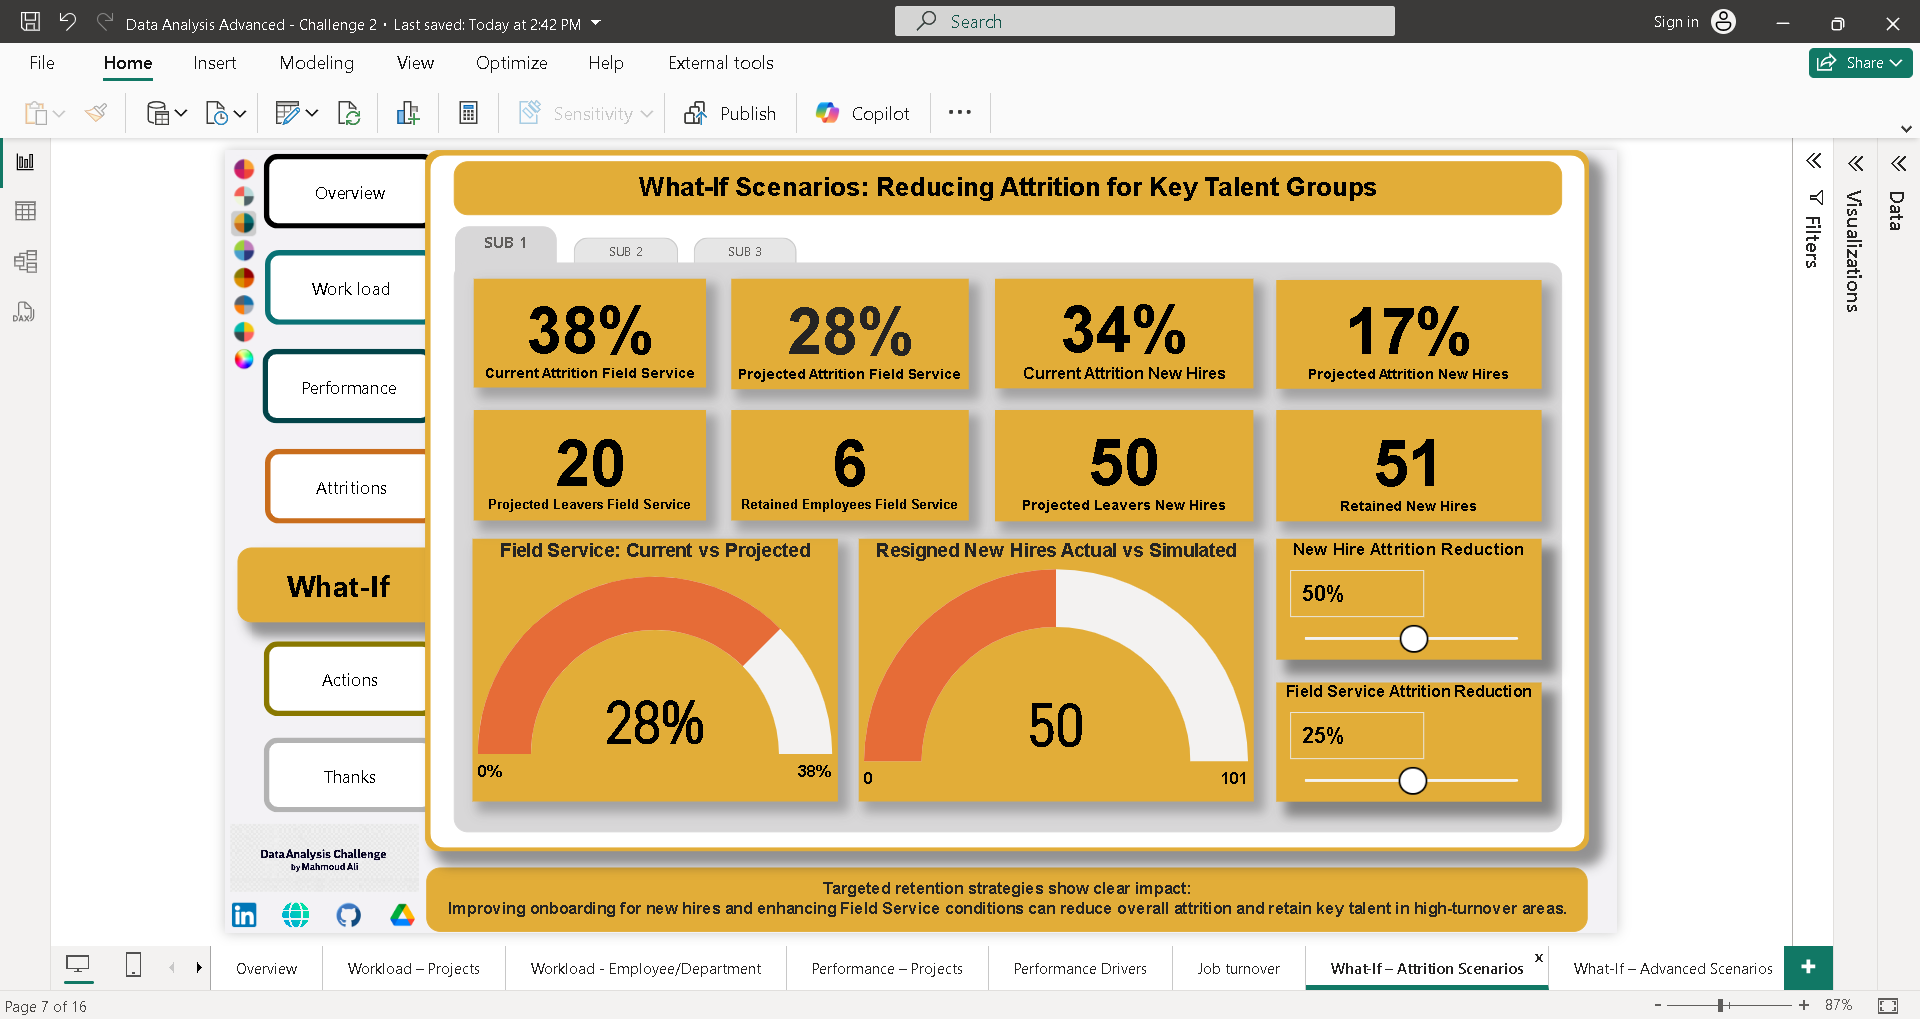

The dashboard page shown, as its layout file describes it:
{"tool":"powerbi","page":{"name":"Job turnover ","canvas":[1280,720],"ordinal":5},"visuals":[{"type":"ChicletSlicer1448559807354","fields":{"Category":["Sheet1.Color Scheme"],"Image":["Sheet1.URL"]},"box":[0,0,35,243.8],"z":0},{"type":"card","fields":{"Values":["Min(Color Scheme.Suggestion)"]},"box":[955,0,291.2,49.1],"z":1000},{"type":"image","box":[47.5,687.5,36.2,32.5],"z":2000},{"type":"image","box":[0,687.5,35,32.5],"z":3000},{"type":"image","box":[90,687.5,48.8,32.5],"z":4000},{"type":"image","box":[146.2,687.5,37.5,32.5],"z":5000},{"type":"image","box":[0,612.5,185,75],"z":6000},{"type":"textbox","box":[185.6,660.3,1068.1,59.3],"z":7000},{"type":"actionButton","title":"Button","box":[11.2,275,183.8,68.8],"z":8000},{"type":"actionButton","title":"Button","box":[35.6,364.4,158.9,68.9],"z":9000},{"type":"actionButton","box":[35,182.5,158.8,68.8],"z":10000},{"type":"actionButton","title":"Button","box":[35.6,3.3,158.9,68.9],"z":11000},{"type":"actionButton","title":"Button","box":[35.6,452.2,158.9,68.9],"z":12000},{"type":"actionButton","title":"Button","box":[35.6,540,158.9,68.9],"z":13000},{"type":"actionButton","title":"Button","box":[36.7,92.2,158.9,68.9],"z":14000},{"type":"actionButton","box":[183.8,0,1071.2,645],"z":15000},{"type":"basicShape","box":[211.1,103.8,1018.2,523.6],"z":16000},{"type":"card","fields":{"Values":["Measures Table.Total Employees"]},"box":[469.7,123.7,218.4,102.3],"z":17000},{"type":"card","fields":{"Values":["Measures Table.Attrition Rate"]},"box":[727.2,123.7,231.1,102.3],"z":18000},{"type":"card","fields":{"Values":["Measures Table.Top Attrition Dept"]},"box":[228.5,123.7,204.5,101],"z":19000},{"type":"card","fields":{"Values":["Measures Table.Resigned Employees"]},"box":[996.2,123.7,217.2,102.3],"z":20000},{"type":"columnChart","title":"Resigned by Years of Experience","fields":{"Category":["Advanced_Employees.Employee ID"],"Series":["Advanced_Employees.Status"],"Y":["Sum(Advanced_Employees.Years of experience)"]},"box":[616.1,438.1,597.2,174.2],"z":21000},{"type":"slicer","fields":{"Values":["Advanced_Employees.Country"]},"box":[1104.8,66.9,125,56.8],"z":22000},{"type":"textbox","box":[210.9,10.1,1017.6,49.2],"z":23000},{"type":"barChart","title":"Attrition Rate and Resigned Count by Department","fields":{"Category":["Advanced_Employees.Department"],"Y":["CountNonNull(Advanced_Employees.Employee ID)","Measures Table.Resigned Employees"]},"box":[228.5,243.7,364.9,368.7],"z":24000},{"type":"areaChart","fields":{"Category":["Advanced_Employees.Department"],"Y":["Measures Table.Attrition Rate"]},"box":[616.1,243.7,597.2,175.5],"z":25000},{"type":"slicer","fields":{"Values":["Advanced_Employees.Date of Joining.Variation.Date Hierarchy.Month"]},"box":[964.4,66.7,125.6,55.6],"z":26000}]}

Visuals, with their boxes on the page's 1280x720 design canvas (x1, y1, x2, y2). These are canvas units, not pixel positions in the 1920x1019 screenshot, which may show the page scaled, cropped or inside an application window:
ChicletSlicer1448559807354 - Sheet1.Color Scheme x Sheet1.URL: 0,0,35,244
card - Min(Color Scheme.Suggestion): 955,0,1246,49
image: 48,688,84,720
image: 0,688,35,720
image: 90,688,139,720
image: 146,688,184,720
image: 0,612,185,688
textbox: 186,660,1254,720
"Button" actionButton: 11,275,195,344
"Button" actionButton: 36,364,194,433
actionButton: 35,182,194,251
"Button" actionButton: 36,3,194,72
"Button" actionButton: 36,452,194,521
"Button" actionButton: 36,540,194,609
"Button" actionButton: 37,92,196,161
actionButton: 184,0,1255,645
basicShape: 211,104,1229,627
card - Measures Table.Total Employees: 470,124,688,226
card - Measures Table.Attrition Rate: 727,124,958,226
card - Measures Table.Top Attrition Dept: 228,124,433,225
card - Measures Table.Resigned Employees: 996,124,1213,226
"Resigned by Years of Experience" columnChart: 616,438,1213,612
slicer - Advanced_Employees.Country: 1105,67,1230,124
textbox: 211,10,1228,59
"Attrition Rate and Resigned Count by Department" barChart: 228,244,593,612
areaChart - Advanced_Employees.Department x Measures Table.Attrition Rate: 616,244,1213,419
slicer - Advanced_Employees.Date of Joining.Variation.Date Hierarchy.Month: 964,67,1090,122
